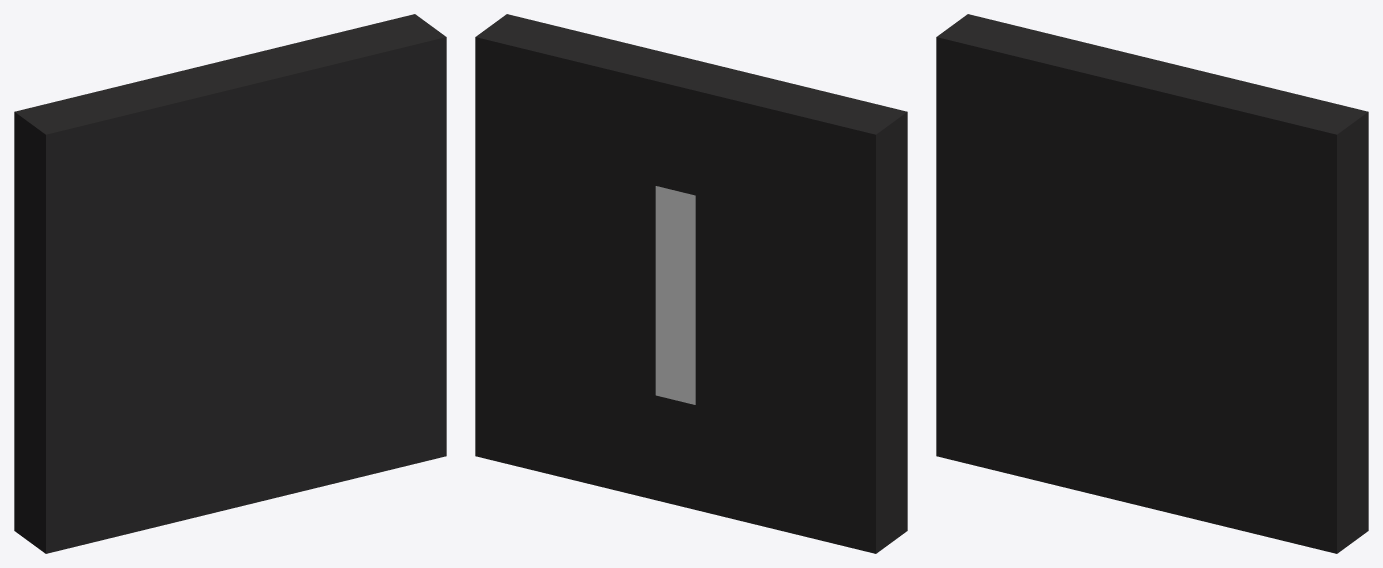
The model's file is road.fbx.
3 renders of one model, left to right at view 1: azimuth 30°, elevation 25°; view 2: azimuth 150°, elevation 25°; view 3: azimuth 330°, elevation 25°, orthographic.
Visible parts, largest first — view 1: Cube; view 2: Cube; view 3: Cube.
Part boxes in pixels (x1,y1,x2,y2): Cube: (14,14,446,553); Cube: (475,14,907,553); Cube: (936,14,1368,553).
Size of the model in its own units: 200 by 200 by 27.21.
